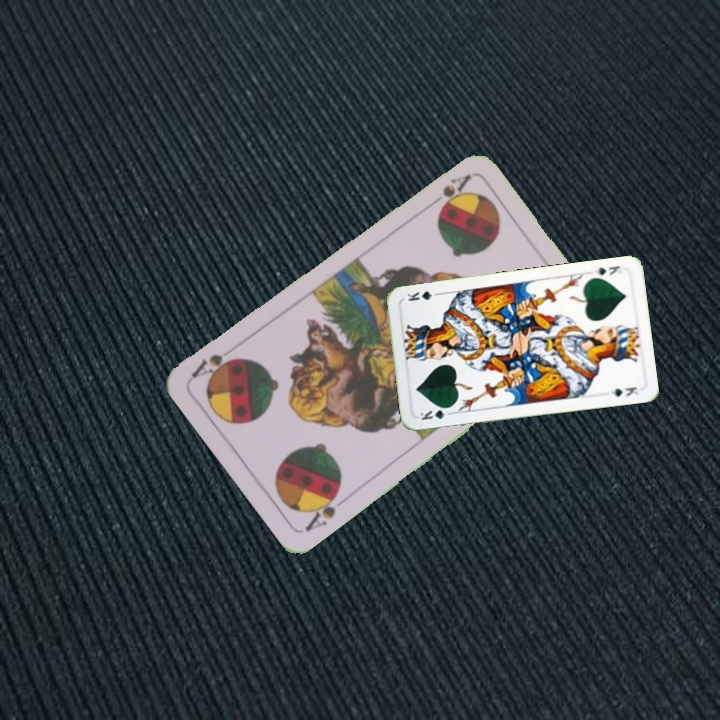GK: (416, 403, 455, 423), (591, 262, 624, 279)
SA: (300, 484, 343, 535), (422, 170, 473, 212)
